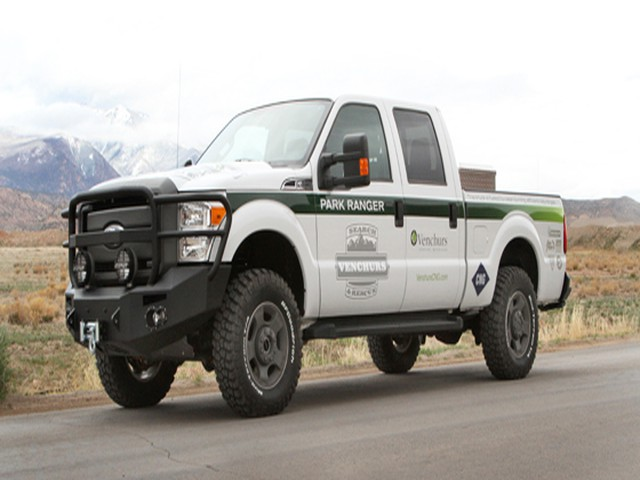Vehicle: (66, 91, 579, 418)
